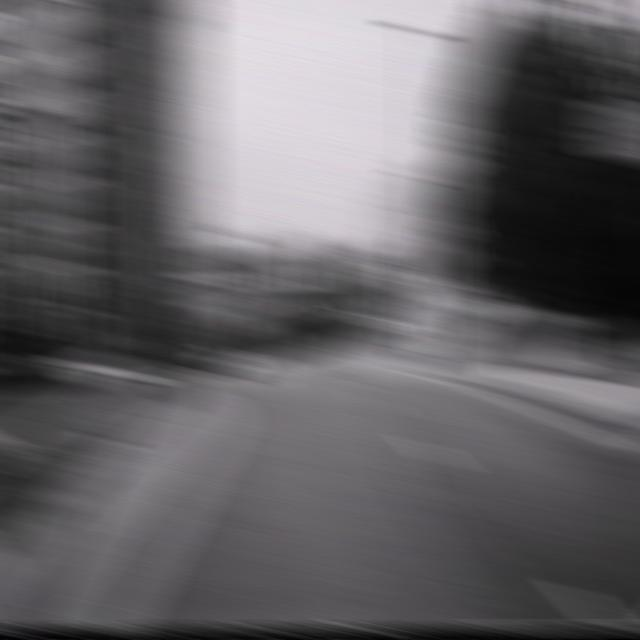stop: (398, 304, 430, 330)
